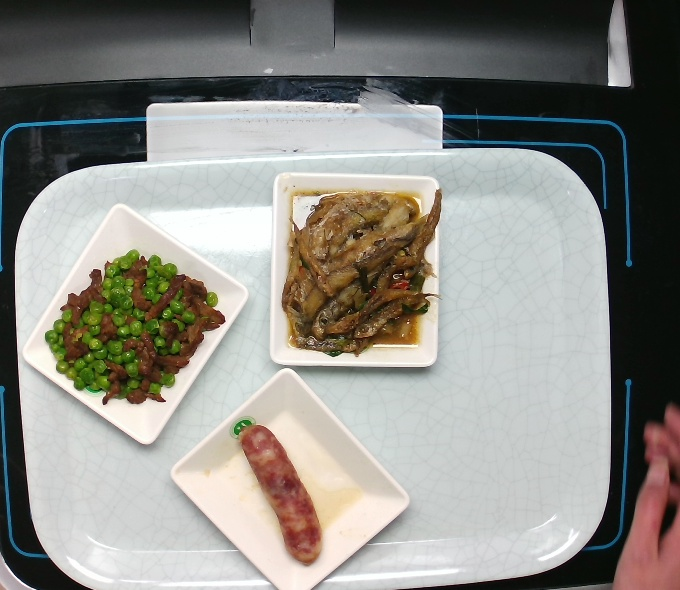wcq-CanDouNiuRou: (45, 244, 226, 410)
wcq-XiangChang: (233, 422, 332, 572)
wcq-XiaoJiYu: (279, 185, 444, 361)
